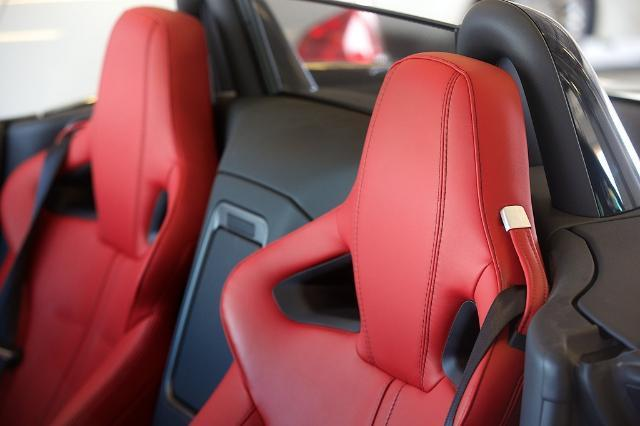Seatbelt: (0, 133, 78, 377), (445, 287, 528, 426)
